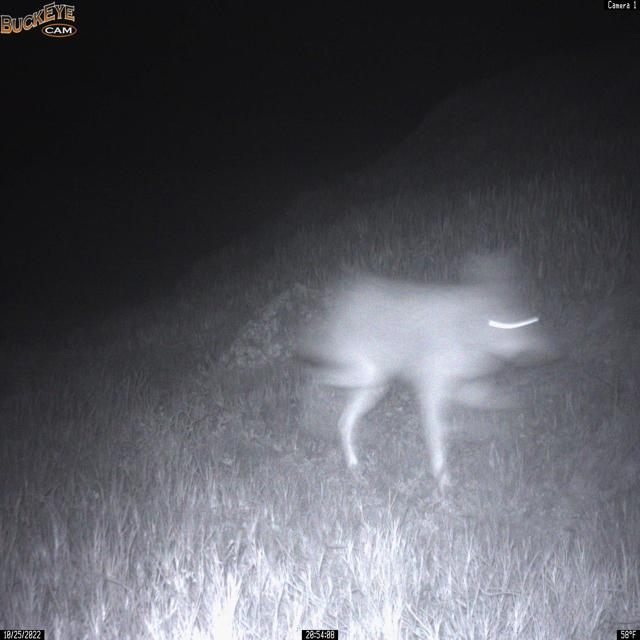coyote: (291, 247, 566, 497)
